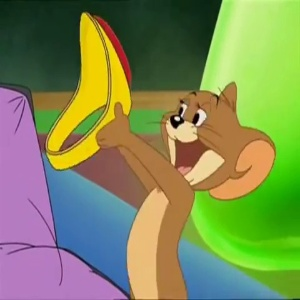Jerry: (160, 79, 274, 195)
